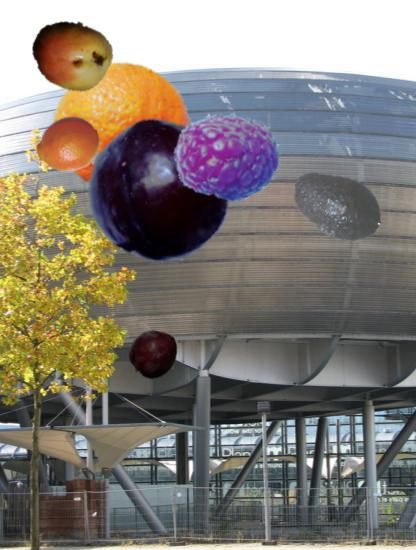Avocado: (291, 158, 384, 251)
Mandarine: (53, 58, 193, 198)
Papaya: (31, 14, 113, 96)
Plum: (87, 118, 232, 263), (128, 328, 180, 380)
Raspberry: (173, 103, 281, 211)
Tangelo: (35, 113, 100, 178)
